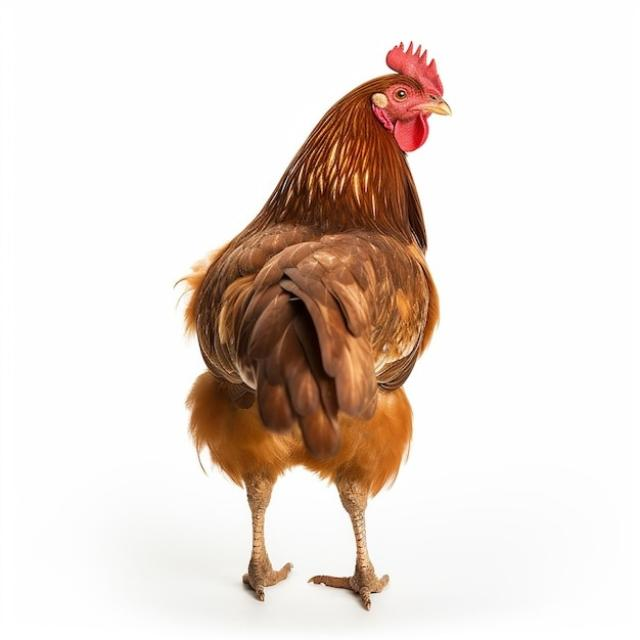Chicken: (174, 37, 455, 610)
